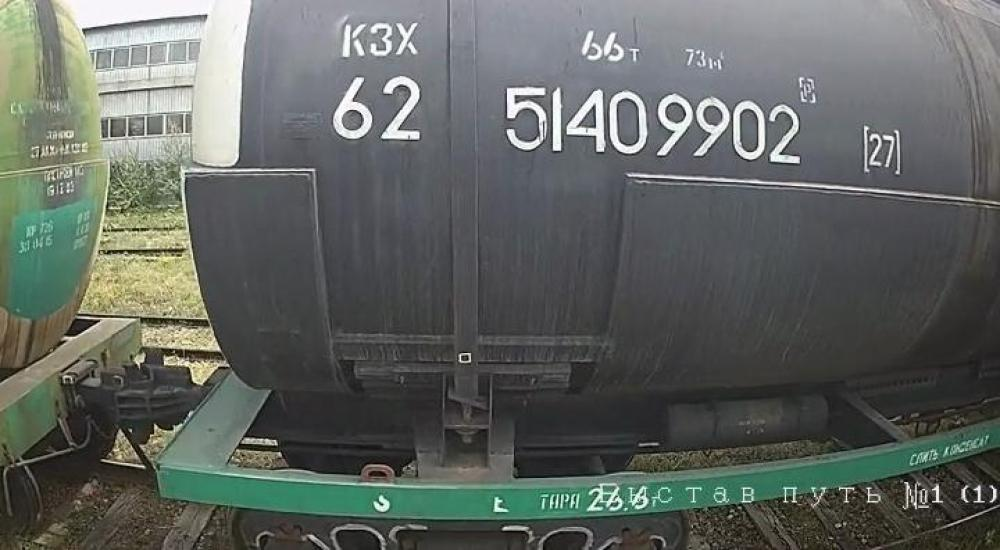Wagon-number: (499, 78, 807, 172)
